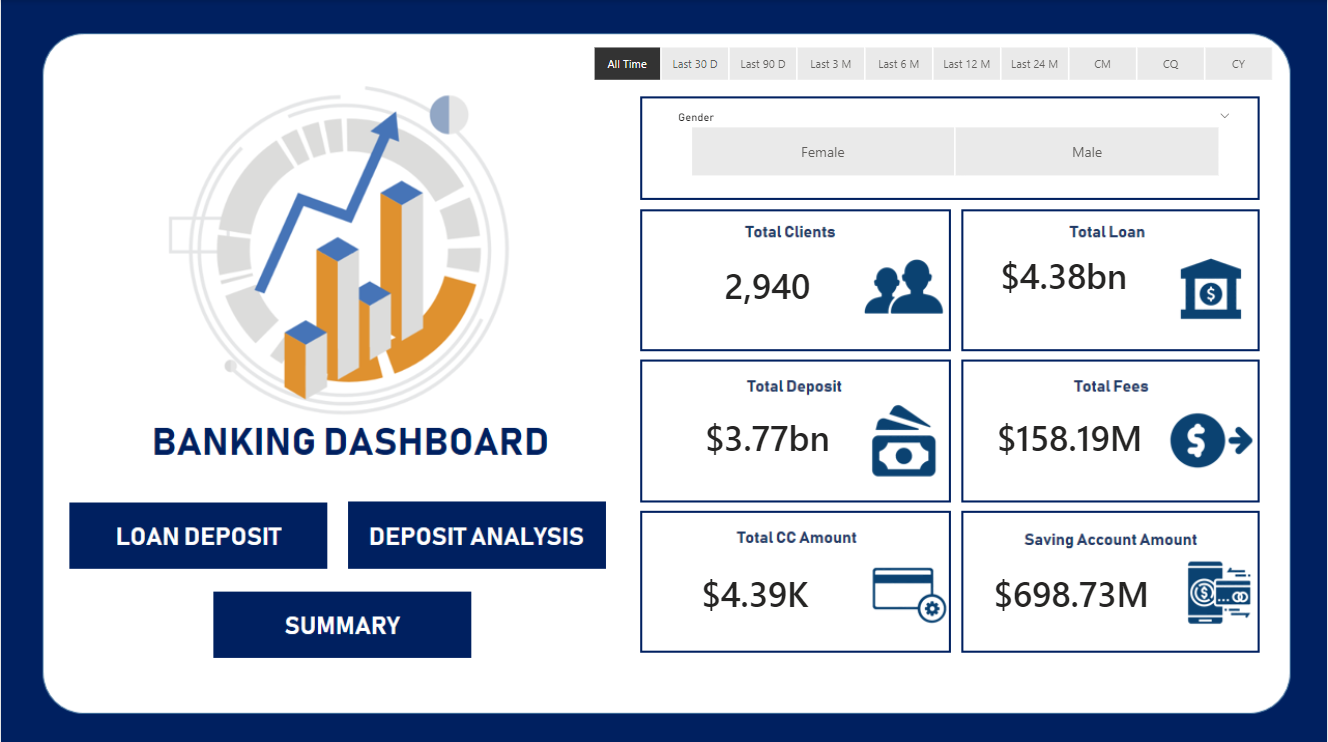

What the dashboard file says about the page in this screenshot:
{"tool":"powerbi","page":{"name":"Home","canvas":[1280,720],"ordinal":0},"visuals":[{"type":"slicer","fields":{"Values":["Gender.Gender"]},"box":[640.3,100.8,558.2,75],"z":0},{"type":"card","fields":{"Values":["DAX Measures.Total Clients"]},"box":[640.3,218.1,198.2,114.9],"z":1000},{"type":"card","fields":{"Values":["DAX Measures.Total Loan"]},"box":[933.4,208.7,184.1,114.9],"z":2000},{"type":"card","fields":{"Values":["DAX Measures.Total Deposit"]},"box":[640.3,374.1,198.2,98.5],"z":3000},{"type":"card","fields":{"Values":["DAX Measures.Total CC Amount"]},"box":[628.5,533.6,198.2,79.7],"z":4000},{"type":"card","fields":{"Values":["DAX Measures.Total Fees"]},"box":[938.1,372.9,185.3,99.7],"z":5000},{"type":"card","fields":{"Values":["DAX Measures.Savings Account"]},"box":[933.4,533.6,198.2,79.7],"z":6000},{"type":"actionButton","box":[63.3,483.1,253.3,65.7],"z":7000},{"type":"actionButton","box":[335.4,485.5,250.9,63.3],"z":8000},{"type":"actionButton","box":[205.2,573.4,255.6,61],"z":9000},{"type":"slicer","fields":{"Values":["Period.Name"]},"box":[546.4,38.7,703.6,45.7],"z":10000}]}

Visuals, with their boxes in screenshot pixels (x1, y1, x2, y2), scaled from the page's 1280x720 canvas onto the 1328x742 screenshot:
slicer - Gender.Gender: rect(664, 104, 1243, 181)
card - DAX Measures.Total Clients: rect(664, 225, 870, 343)
card - DAX Measures.Total Loan: rect(968, 215, 1159, 333)
card - DAX Measures.Total Deposit: rect(664, 386, 870, 487)
card - DAX Measures.Total CC Amount: rect(652, 550, 858, 632)
card - DAX Measures.Total Fees: rect(973, 384, 1166, 487)
card - DAX Measures.Savings Account: rect(968, 550, 1174, 632)
actionButton: rect(66, 498, 328, 566)
actionButton: rect(348, 500, 608, 566)
actionButton: rect(213, 591, 478, 654)
slicer - Period.Name: rect(567, 40, 1297, 87)
